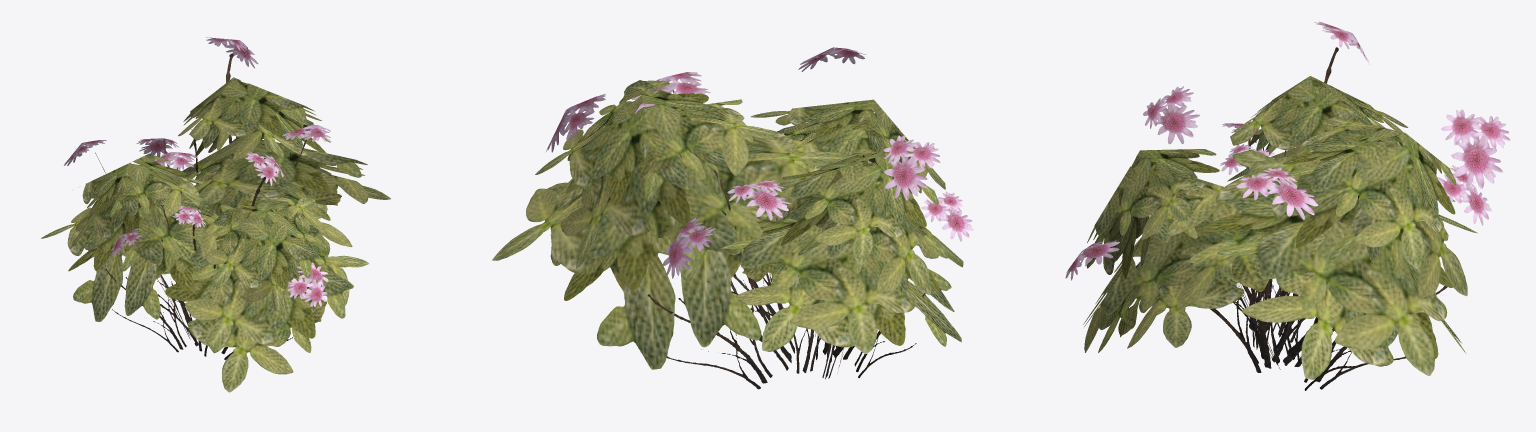
The model's file is Grou_LOD0.fbx.
The picture shows the model from 3 angles, left to right: view 1: azimuth 30°, elevation 25°; view 2: azimuth 150°, elevation 25°; view 3: azimuth 270°, elevation 25°; orthographic projection. The views are drawn at different scales.
Parts seen in each view (by area): view 1: Mesh Object; view 2: Mesh Object; view 3: Mesh Object.
Boxes of the visible parts, box(x1,y1,x2,y2) form: Mesh Object: box(41, 37, 390, 392); Mesh Object: box(492, 47, 973, 389); Mesh Object: box(1065, 21, 1510, 390).
Bounding box in the file's own units: 2.04 × 1.45 × 1.68.
